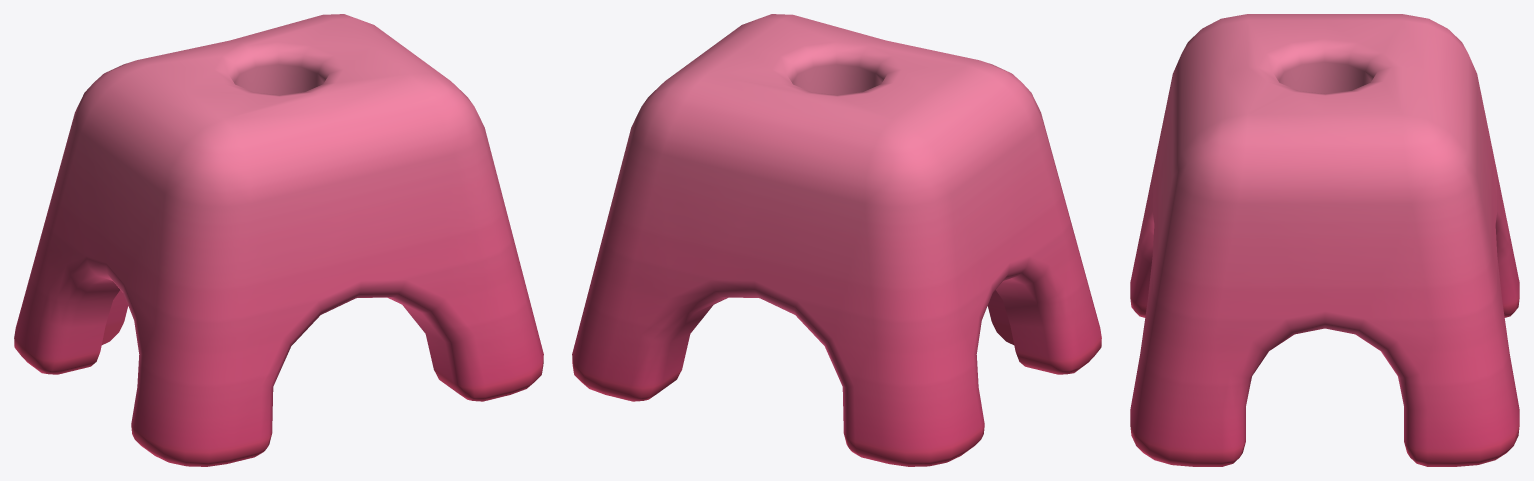
File: Chair_07.glb
3 renders of one model, left to right at view 1: azimuth 30°, elevation 25°; view 2: azimuth 150°, elevation 25°; view 3: azimuth 270°, elevation 25°, orthographic. The views are drawn at different scales.
Parts seen in each view (by area): view 1: Chair_07; view 2: Chair_07; view 3: Chair_07.
Boxes of the visible parts, x1,y1,x2,y2 form: Chair_07: [14, 14, 543, 466]; Chair_07: [572, 14, 1101, 466]; Chair_07: [1130, 14, 1519, 466].
Size of the model in its own units: 0.4113 by 0.3 by 0.3444.
Materials: 1 (1 with a texture image).
